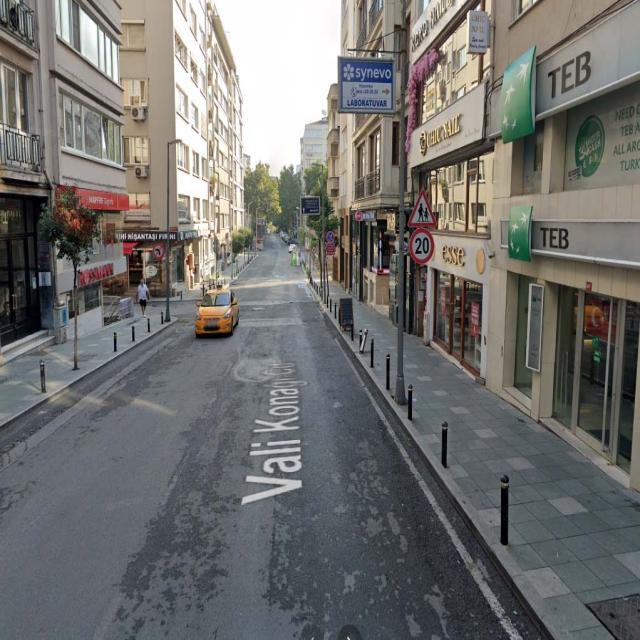20: (410, 228, 434, 263)
soladonulmez: (152, 242, 164, 260)
